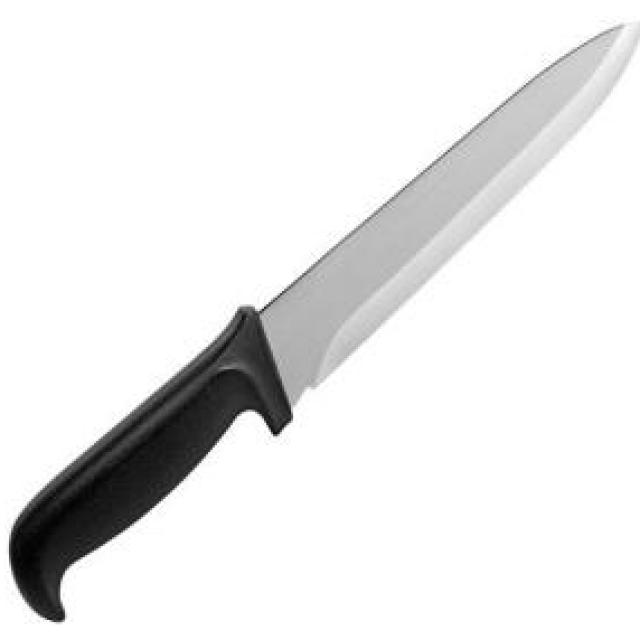knife: (11, 18, 640, 622)
